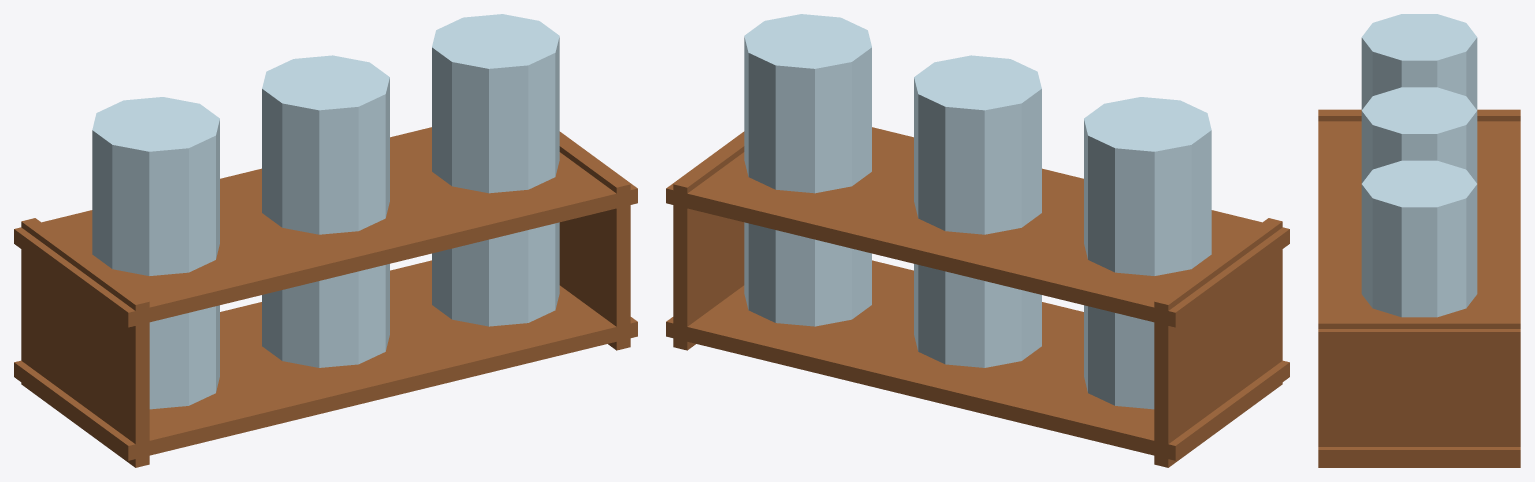
The model's file is int_galonRak.fbx.
3 renders of one model, left to right at view 1: azimuth 30°, elevation 25°; view 2: azimuth 150°, elevation 25°; view 3: azimuth 270°, elevation 25°, orthographic. The views are drawn at different scales.
Parts seen in each view (by area): view 1: int_galonRak; view 2: int_galonRak; view 3: int_galonRak.
Boxes of the visible parts, left/top/right/bottom form: int_galonRak: left=14, top=14, right=637, bottom=467; int_galonRak: left=666, top=14, right=1289, bottom=467; int_galonRak: left=1318, top=14, right=1520, bottom=467.
Bounding box in the file's own units: 180 × 95.5 × 70.
1 material, 1 textured.
